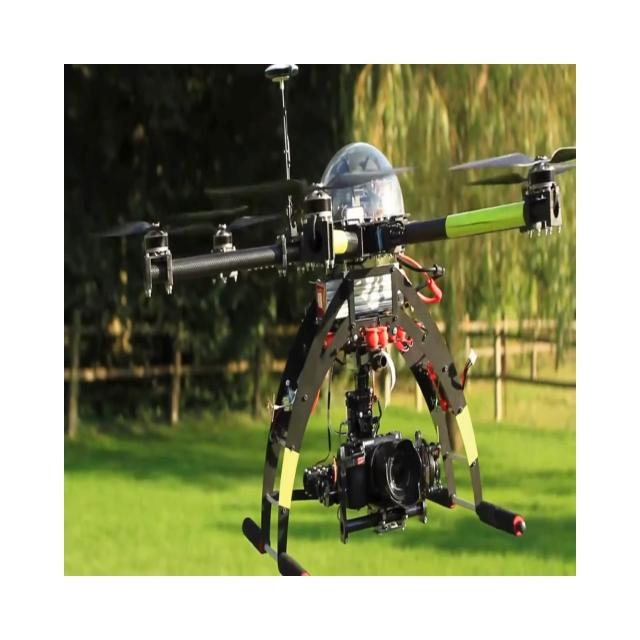drone: (90, 62, 576, 576)
